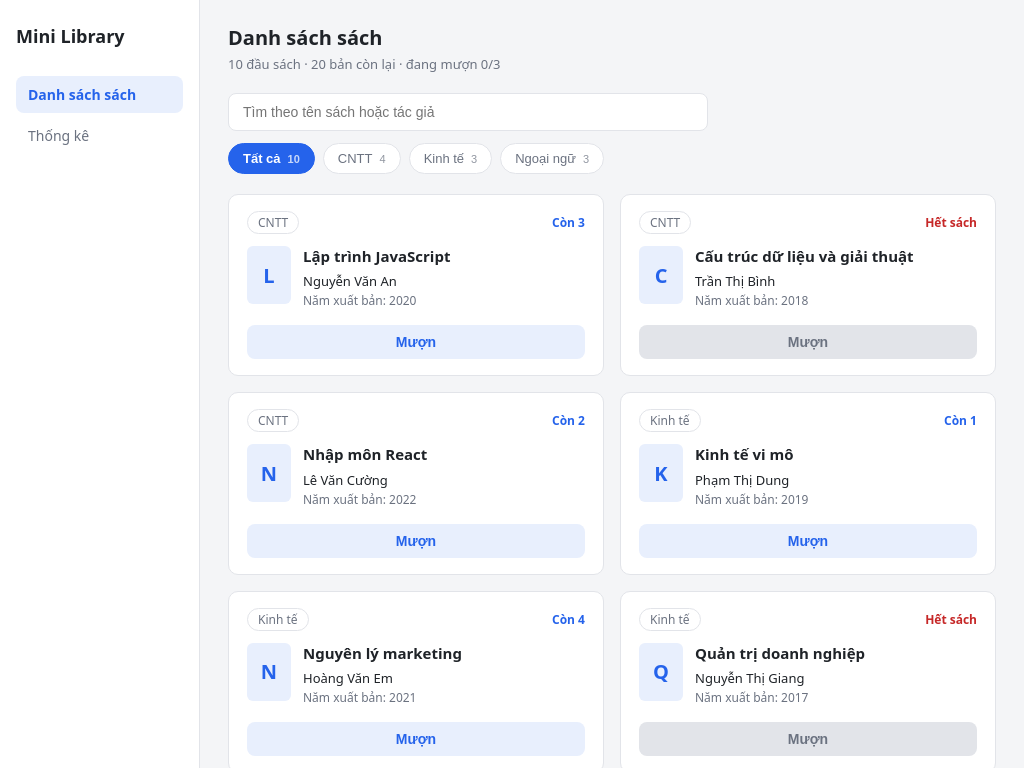
tìm kiếm có debounce 300ms và không phân biệt hoa thường
The image size is (1024, 768).
Expected: the heading "Lập trình JavaScript" is shown, [303,246,450,266]
In the field with placeholder "Tìm theo tên sách hoặc tác giả": (468, 112) [228,93,708,131], type "toeic"
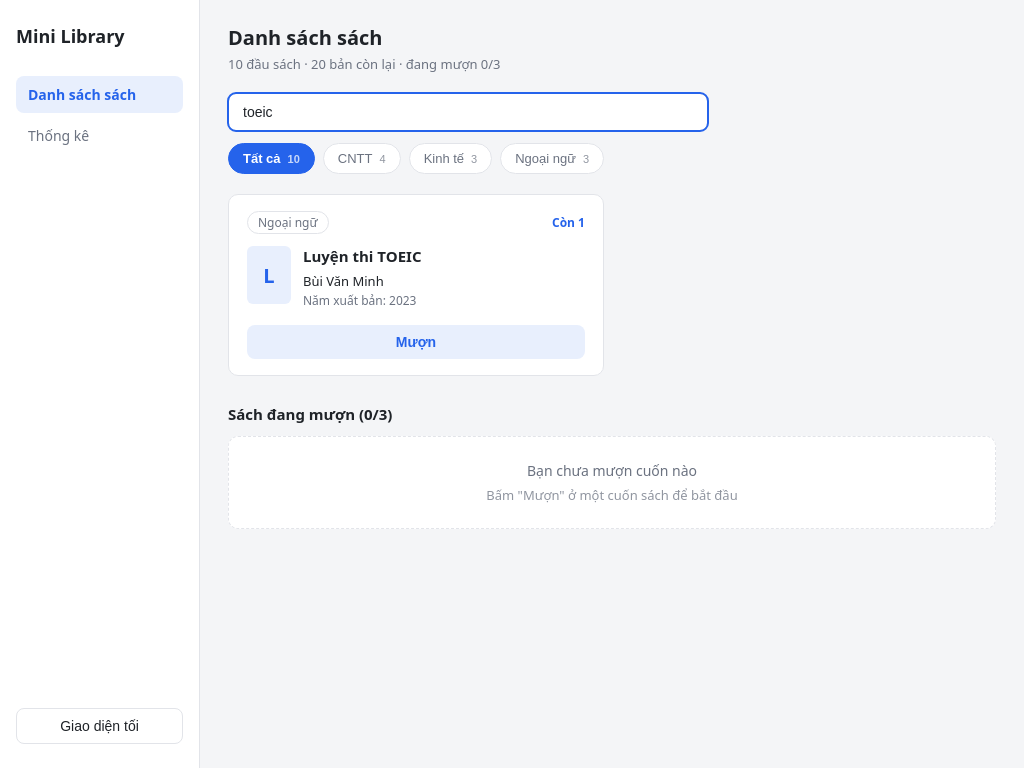
Expected: the heading "Luyện thi TOEIC" is shown, [303,246,422,266]
Expected: the heading "Lập trình JavaScript" is gone
